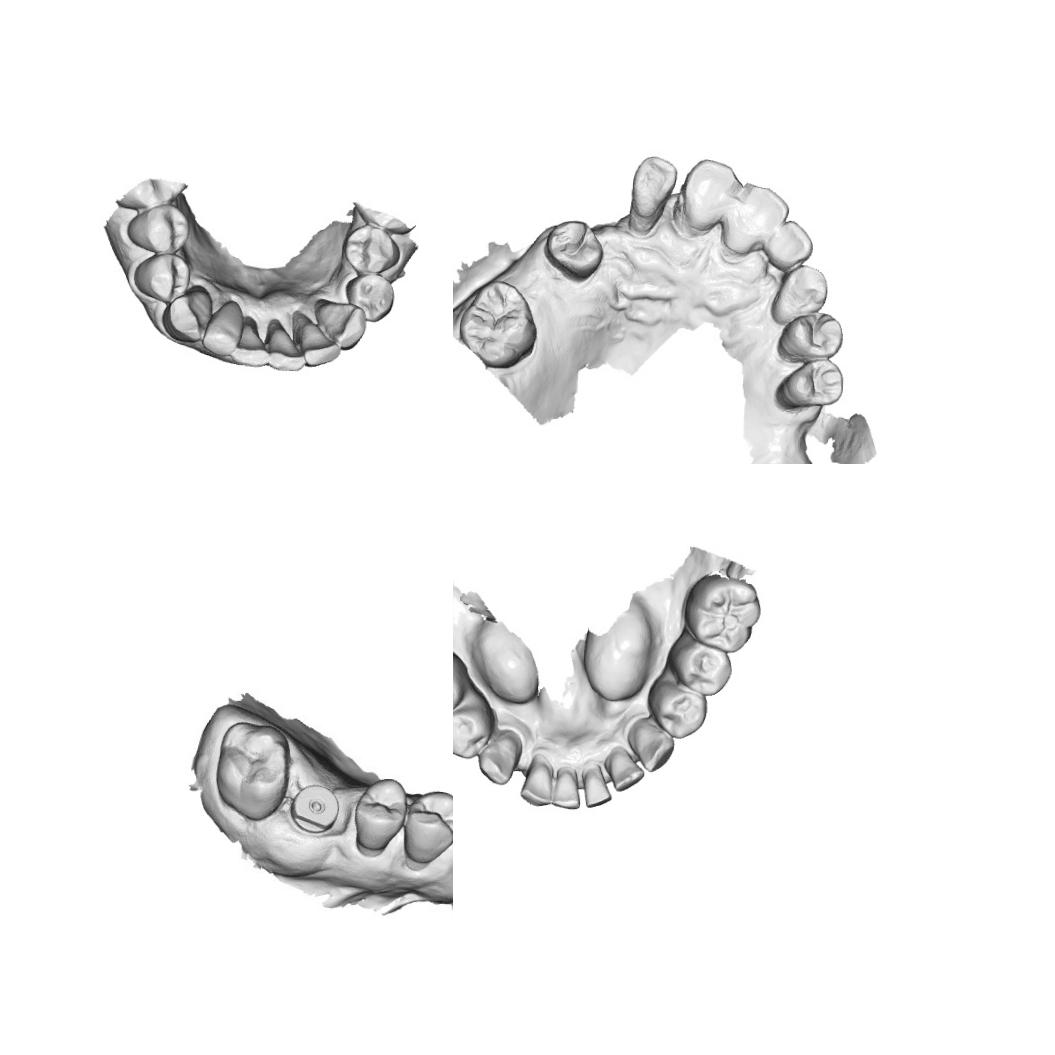canine: (768, 262, 830, 328), (161, 286, 214, 345), (316, 300, 368, 351), (628, 722, 676, 774), (476, 734, 520, 786)
implant: (290, 784, 339, 837)
incisor: (720, 179, 793, 256), (678, 156, 745, 233), (630, 154, 681, 220), (764, 216, 816, 269), (265, 318, 308, 373), (298, 317, 342, 369), (200, 307, 244, 358), (230, 319, 269, 368), (606, 746, 646, 793), (518, 761, 555, 809), (580, 767, 613, 811), (550, 768, 583, 810)
molar: (458, 276, 541, 372), (213, 720, 294, 814), (681, 574, 764, 654)
premolar: (541, 214, 606, 280), (645, 678, 710, 741), (668, 640, 736, 698), (776, 308, 846, 363), (776, 356, 845, 410), (125, 201, 191, 256), (404, 792, 453, 866), (358, 780, 404, 853), (341, 222, 402, 274), (132, 252, 192, 302), (344, 272, 396, 324), (453, 702, 495, 761), (453, 657, 467, 720)
